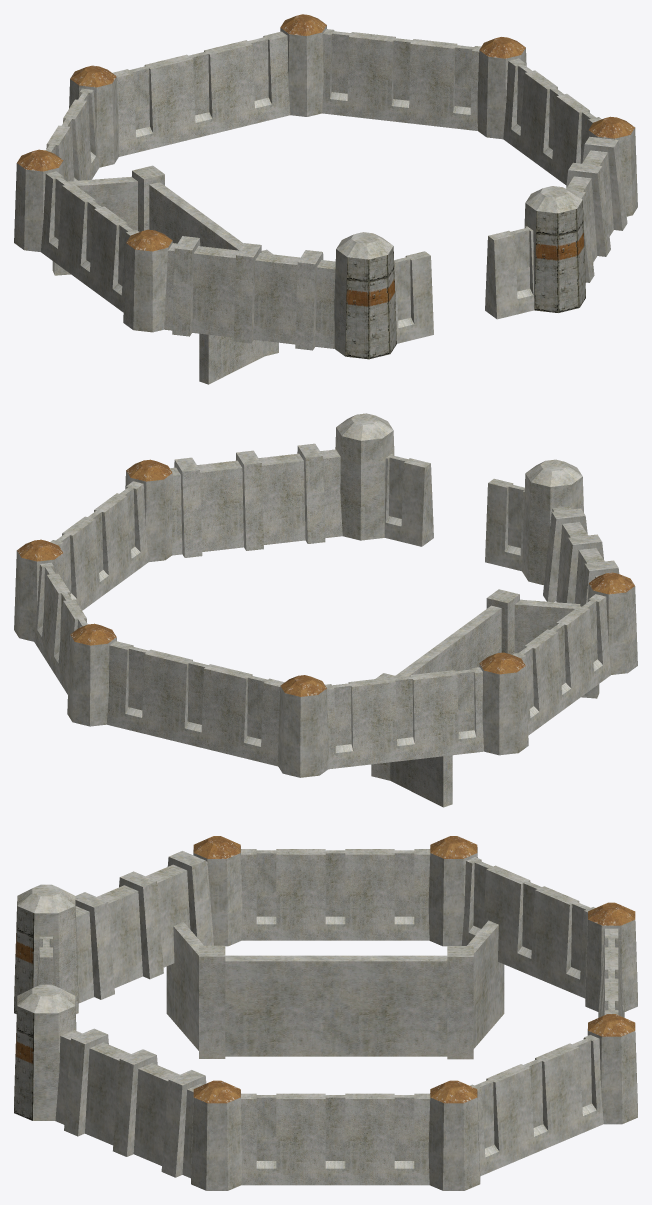
Rendered from poi_all_rebl_corral_32x32_s01_l0.fbx.
3 views of the same model, one above another, from view 1: azimuth 30°, elevation 25°; view 2: azimuth 150°, elevation 25°; view 3: azimuth 270°, elevation 25° (orthographic). The views are drawn at different scales.
Parts seen in each view (by area): view 1: mesh_node; view 2: mesh_node; view 3: mesh_node.
Part boxes in pixels (box(x1,y1,x2,y2)): mesh_node: box(14, 14, 637, 384); mesh_node: box(14, 413, 637, 807); mesh_node: box(14, 836, 637, 1190).
Bounding box in the file's own units: 24.01 × 7.4 × 23.73.
